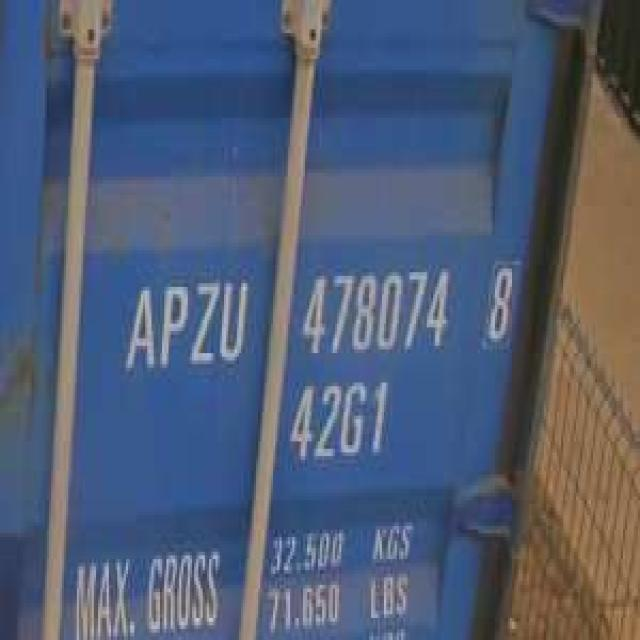dv: (478, 253, 520, 358)
owner: (118, 274, 252, 382)
serial: (302, 259, 452, 366)
size: (283, 374, 395, 472)
